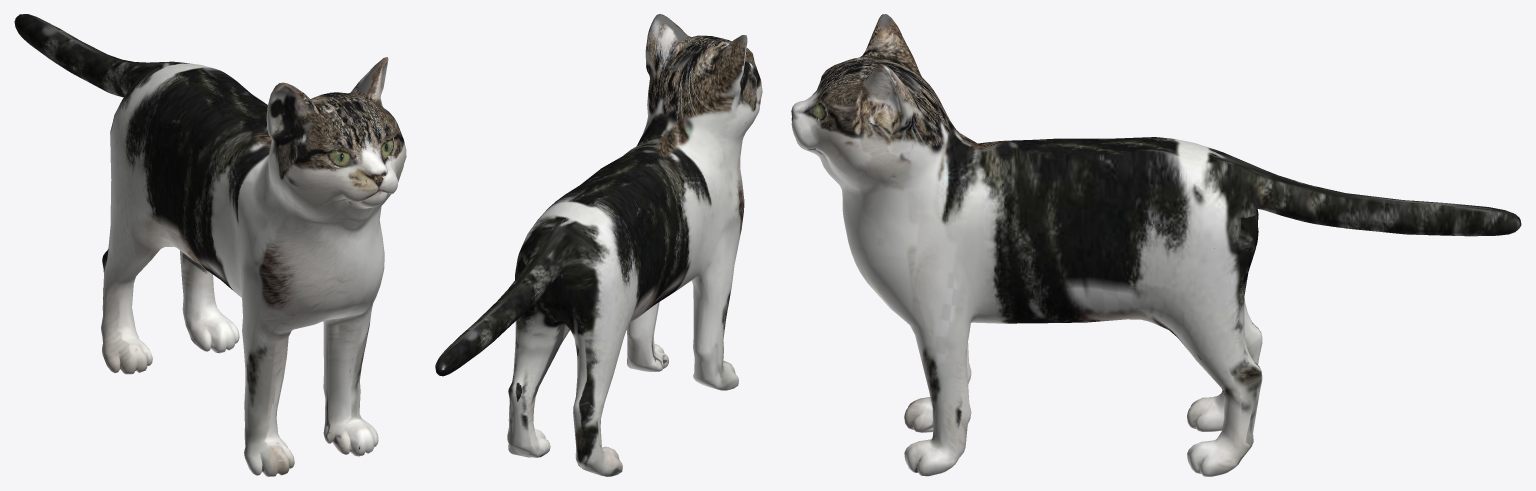
Rendered from AmericanWirehair.gltf.
The picture shows the model from 3 angles, left to right: view 1: azimuth 30°, elevation 25°; view 2: azimuth 150°, elevation 25°; view 3: azimuth 270°, elevation 25°; orthographic projection. The views are drawn at different scales.
Parts seen in each view (by area): view 1: Cat_Base_1.002; view 2: Cat_Base_1.002; view 3: Cat_Base_1.002.
Boxes of the visible parts, x1,y1,x2,y2 form: Cat_Base_1.002: [14, 14, 406, 476]; Cat_Base_1.002: [435, 14, 762, 476]; Cat_Base_1.002: [791, 14, 1521, 476].
Bounding box in the file's own units: 1.27 × 3.8 × 6.15.
Materials: 1 (1 with a texture image).
